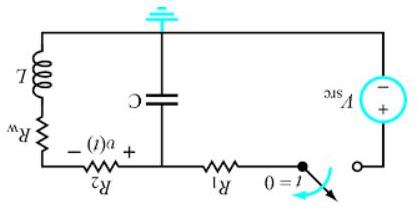Capacitor: (141, 80, 186, 124)
